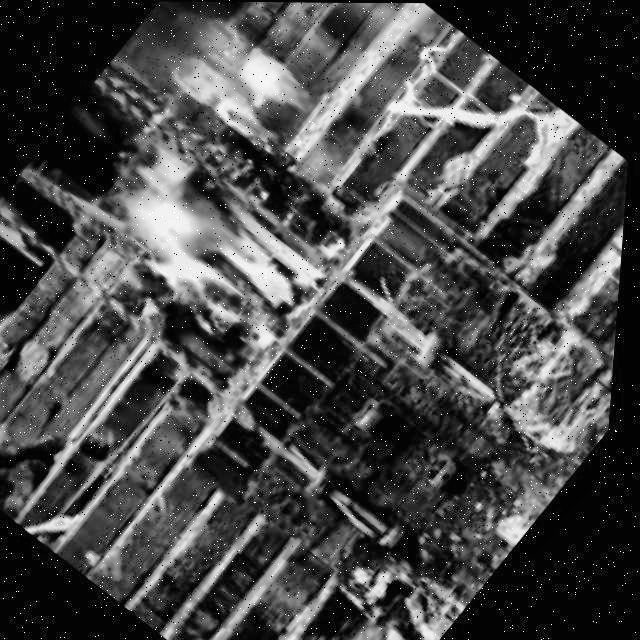Fire: (82, 133, 350, 366)
